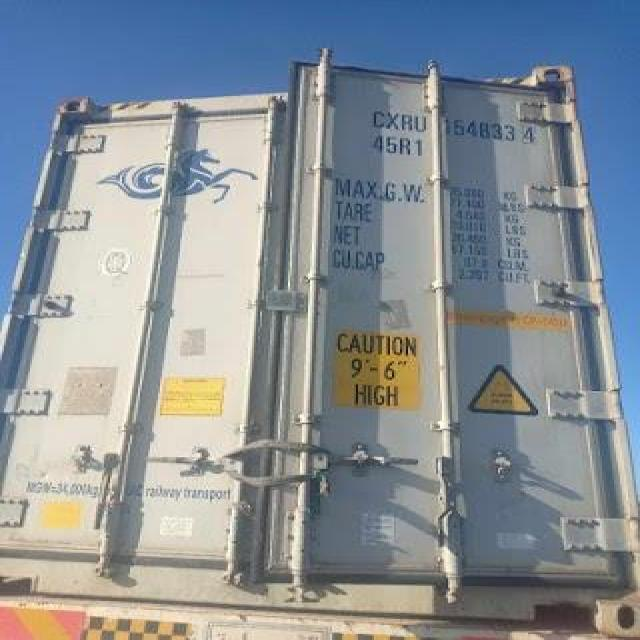ISO: (374, 130, 422, 157)
container_number: (370, 104, 542, 140)
